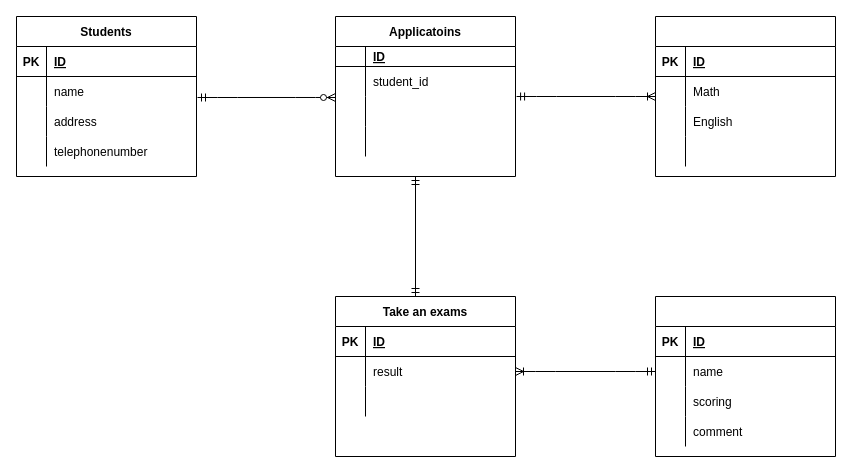
This 852x473 diagram has some shape labels left out. The shapes that lost their labels are listed below. From the top down, each one's box as (x1, y1, x2, y2) in pixels, then its label:
(654, 16, 836, 176): Test subject
(654, 296, 836, 456): Teacher
